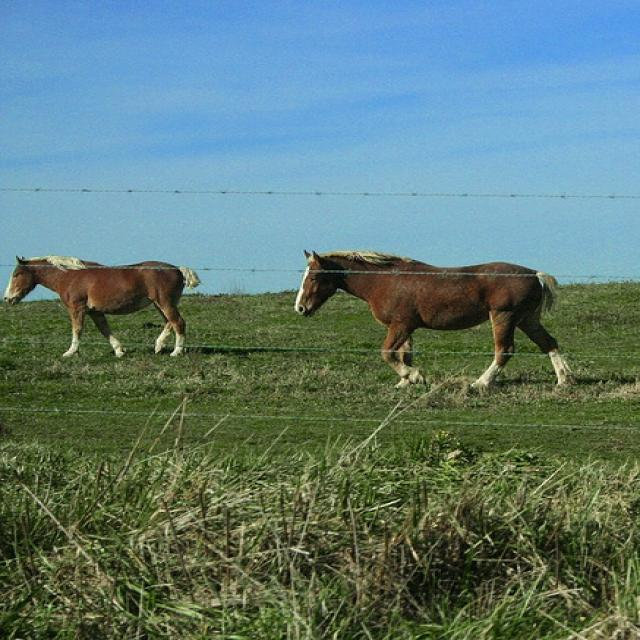horse: (290, 248, 578, 393), (3, 252, 202, 362)
